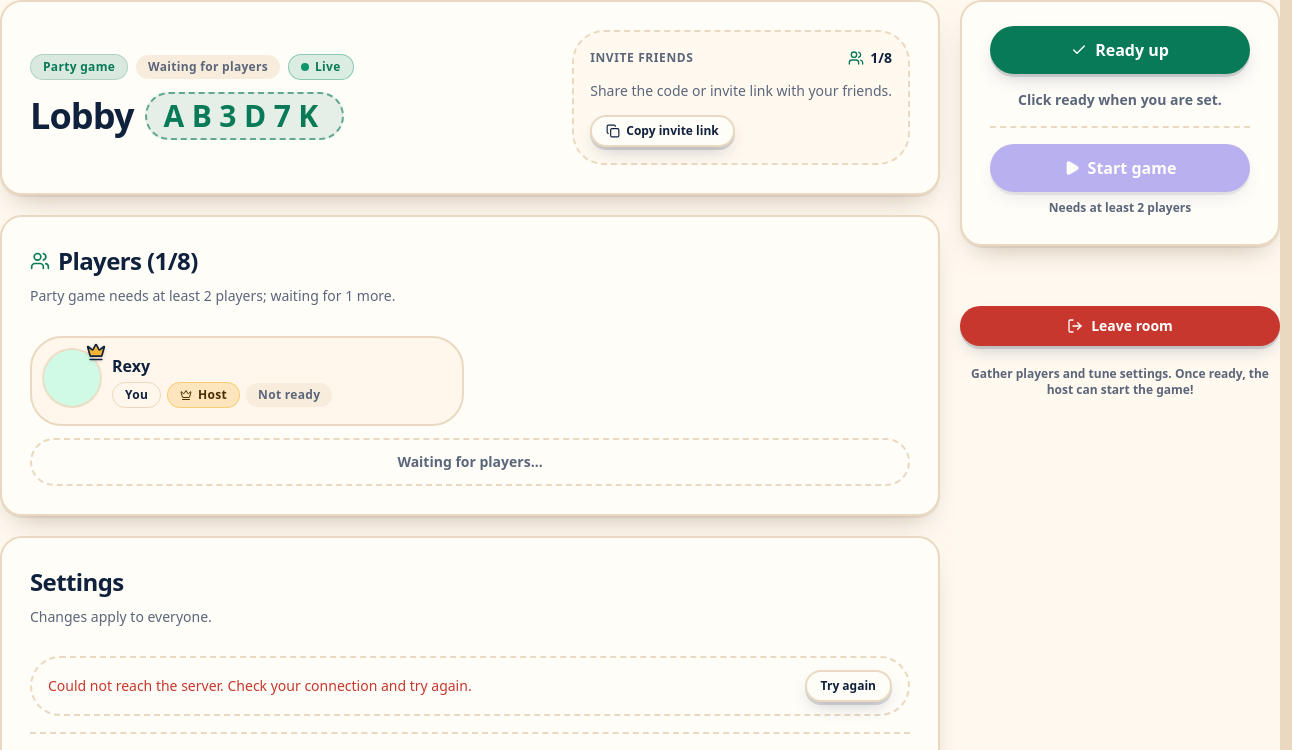
Test: LobbyPage Real-Time Integration › renders Live badge when connected and allows toggling ready
The image size is (1292, 750).
Expected: the text "Live" is shown, [288, 54, 354, 80]
# Click Ready up
Click the button "Ready up" at {"x": 1120, "y": 50}, box [990, 26, 1250, 74]
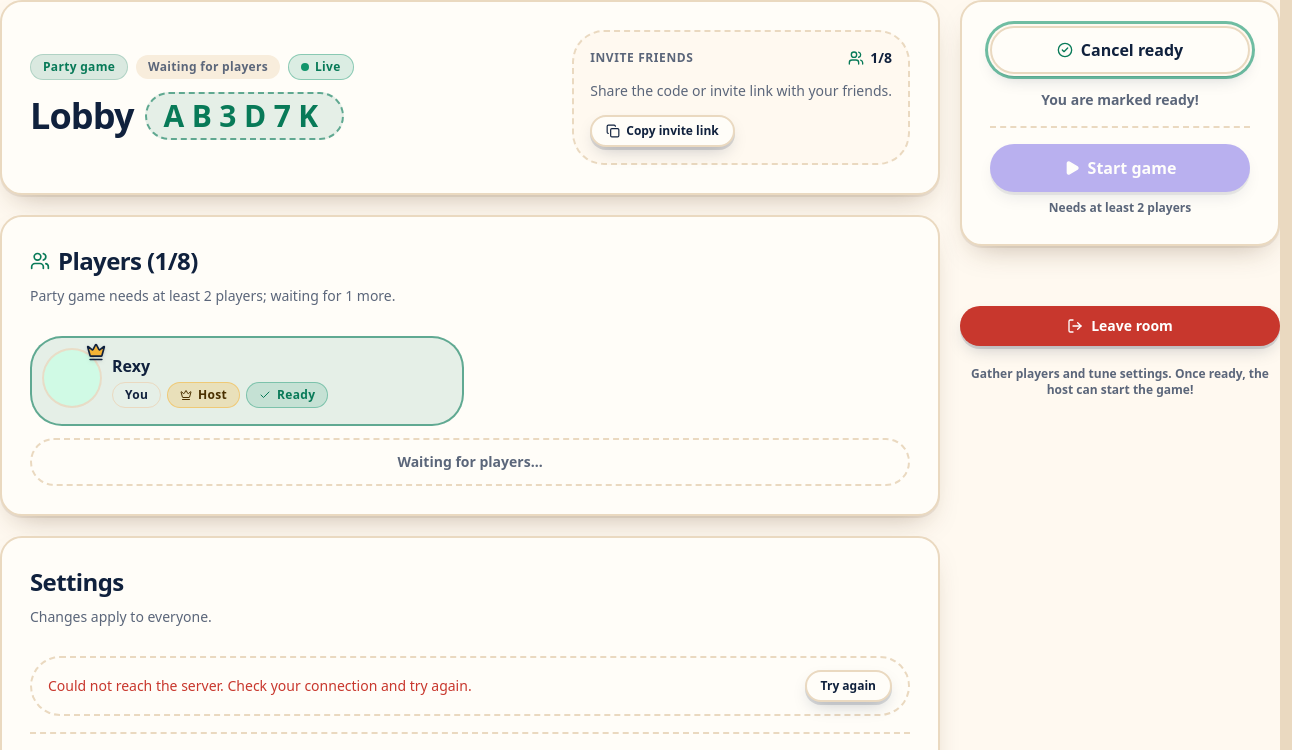
Expected: the button "Cancel ready" is shown, [990, 26, 1250, 74]
Expected: the text "You are marked ready!" is shown, [1041, 90, 1199, 109]
